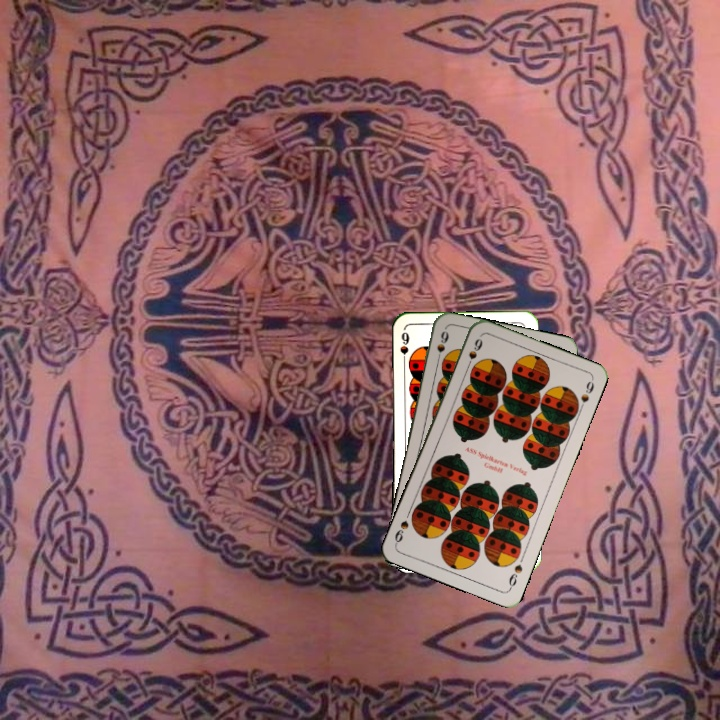S9: (462, 334, 485, 372), (432, 327, 451, 366), (396, 328, 412, 368), (505, 560, 525, 592)
